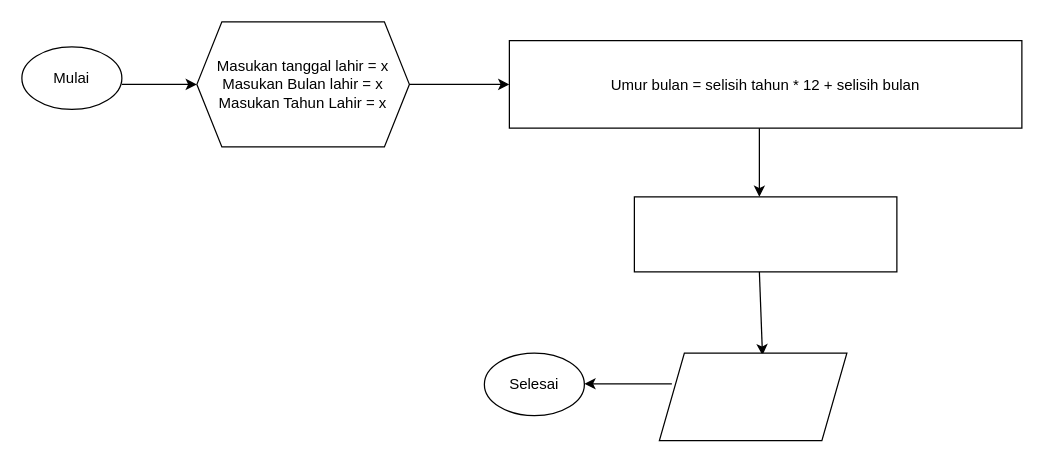
Some shapes in this 1044 by 463 pixel diagram are drawn without their labels. The shapes that lost their labels are listed below. From the top down, each one's centre as x and y in pixels, then its label:
At point (765, 234): "Umur hari = selisih hari".
At point (752, 396): "Umur dalam bulan dan hari".
